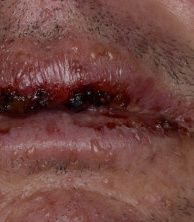SJS-TEN: (0, 34, 194, 222)
